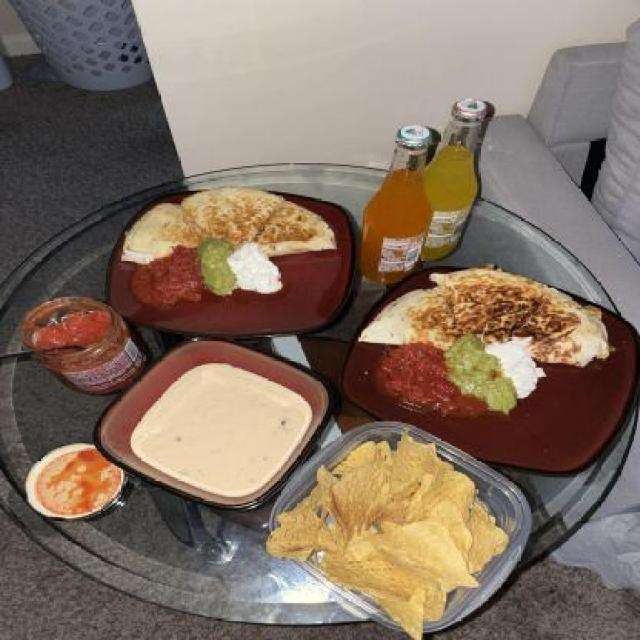chicken quesadilla: (356, 272, 615, 372), (119, 194, 344, 266)
guacamole: (442, 333, 518, 422), (194, 236, 241, 296)
nachos: (298, 431, 516, 631)
